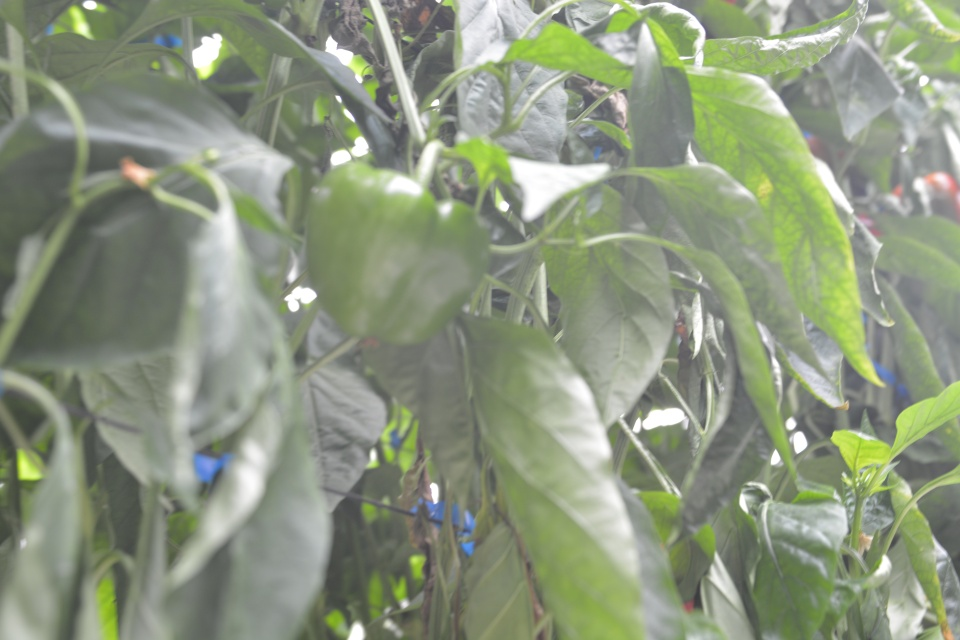fruit: (303, 158, 491, 347)
